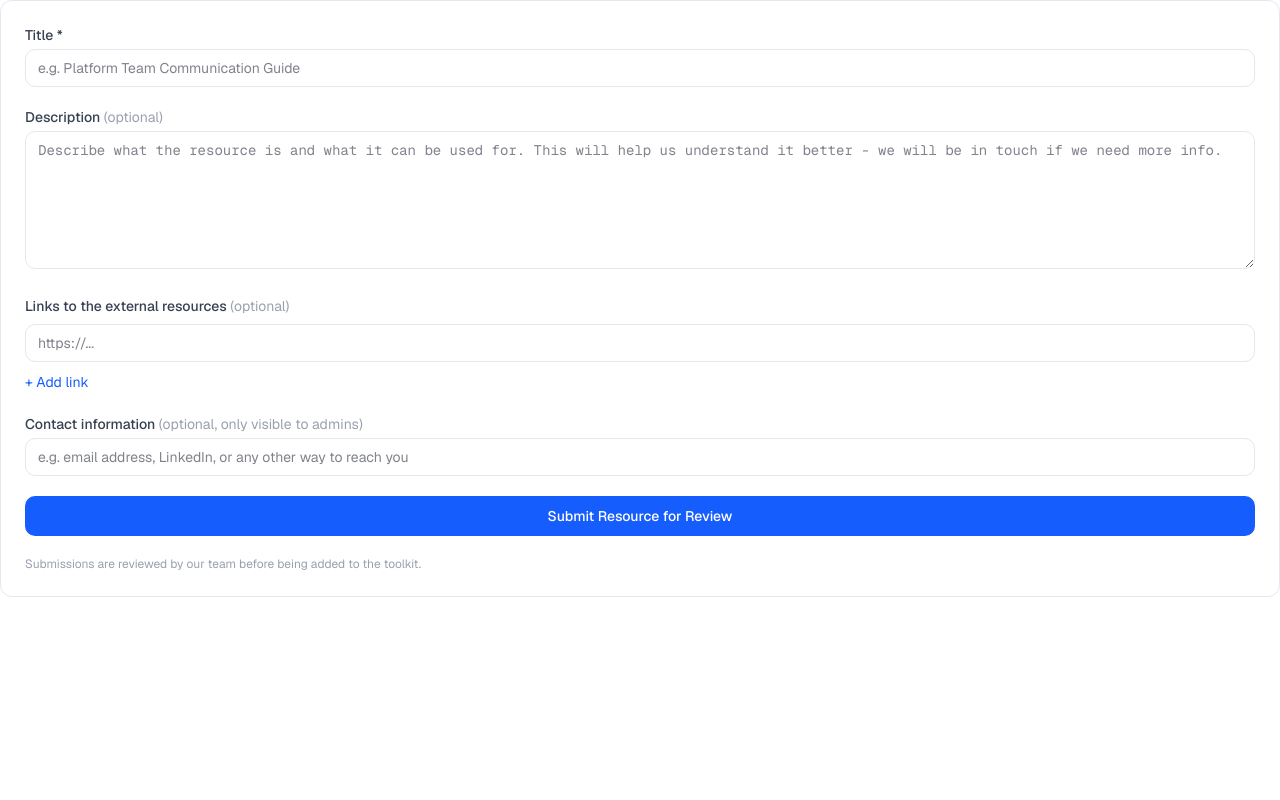
Test: SubmissionForm › when authenticated › shows network error message on fetch failure
Type "My Resource" into the field labelled "Title *".
click(640, 68); type("My Resource")  # box [25,49,1255,87]
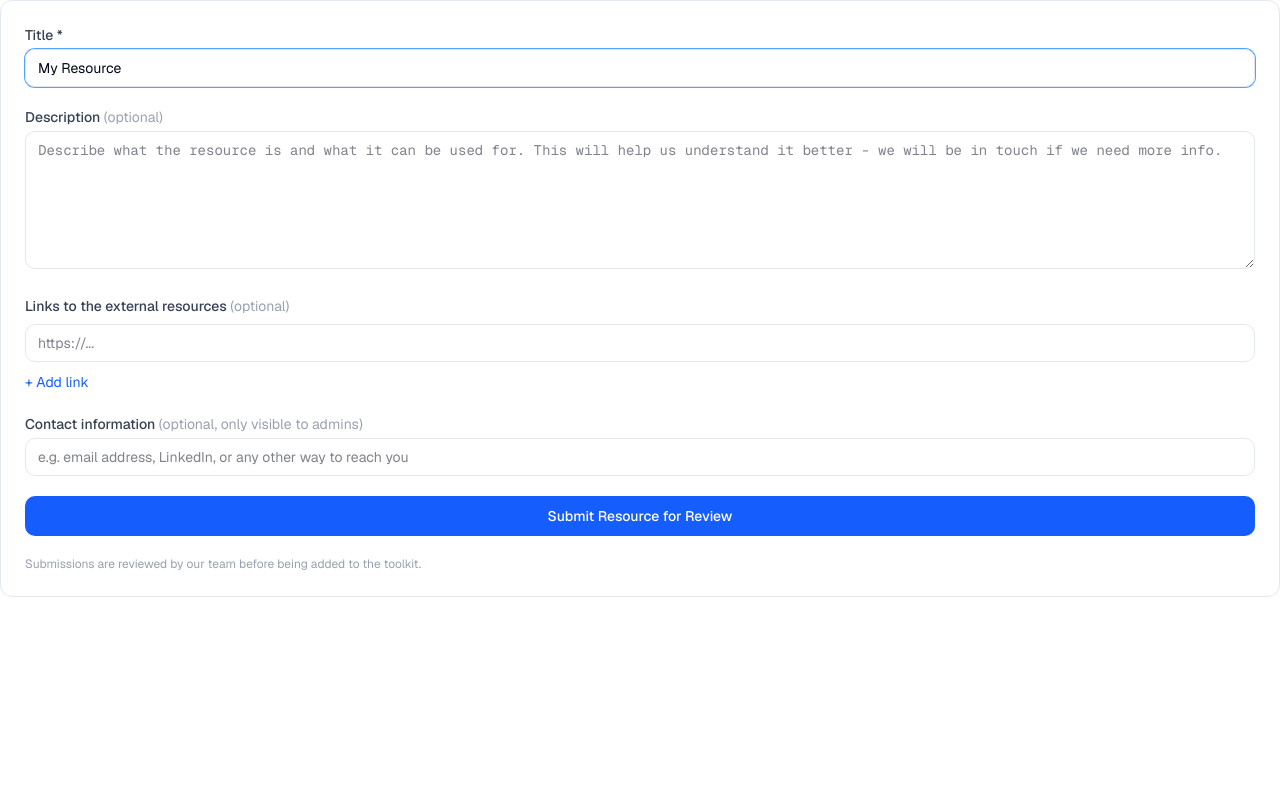
Submit the form named "submit resource"
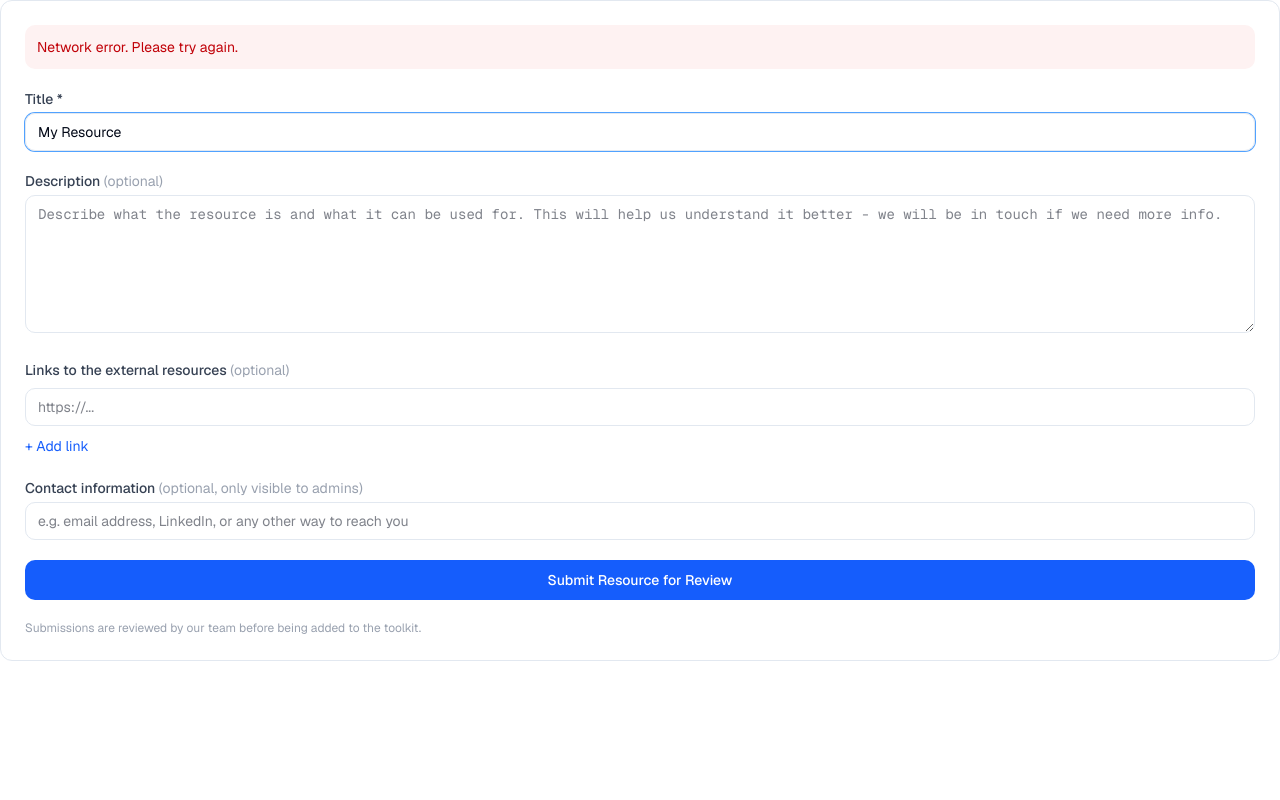
Result: the text "Network error. Please try again." is shown at [25,25,1255,69]
